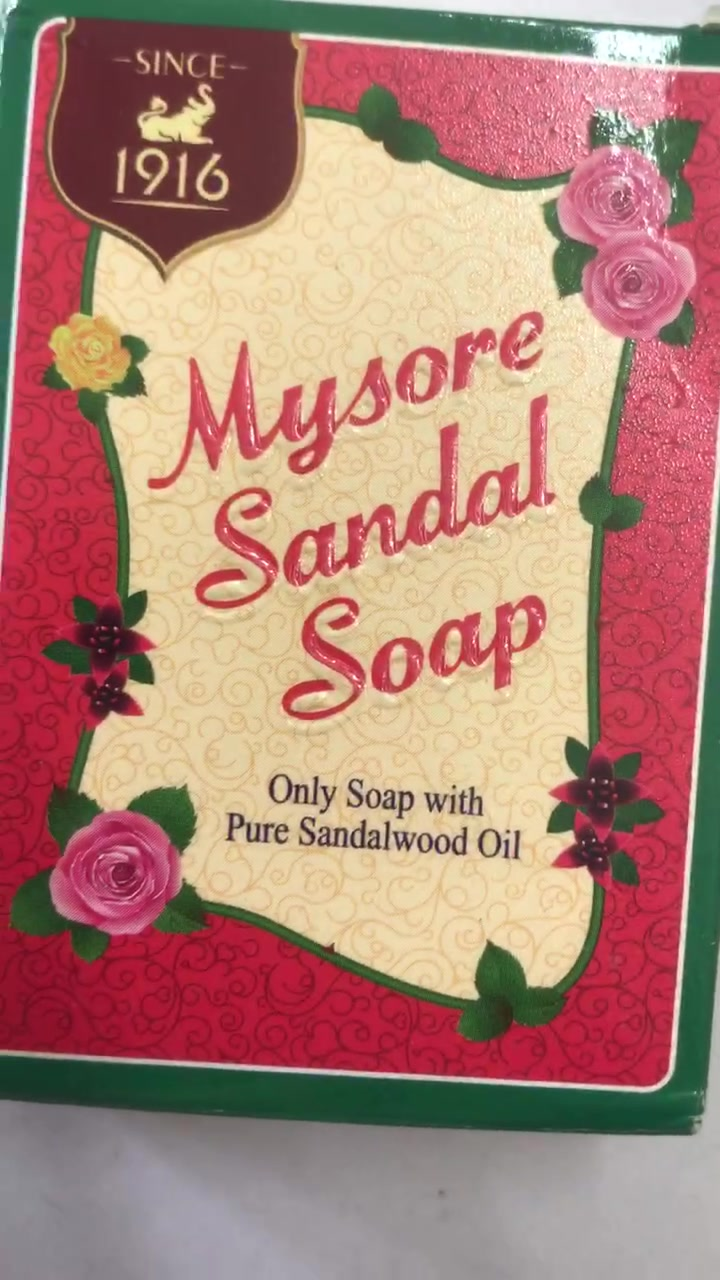mysore sandal soap: (28, 34, 646, 1028)
